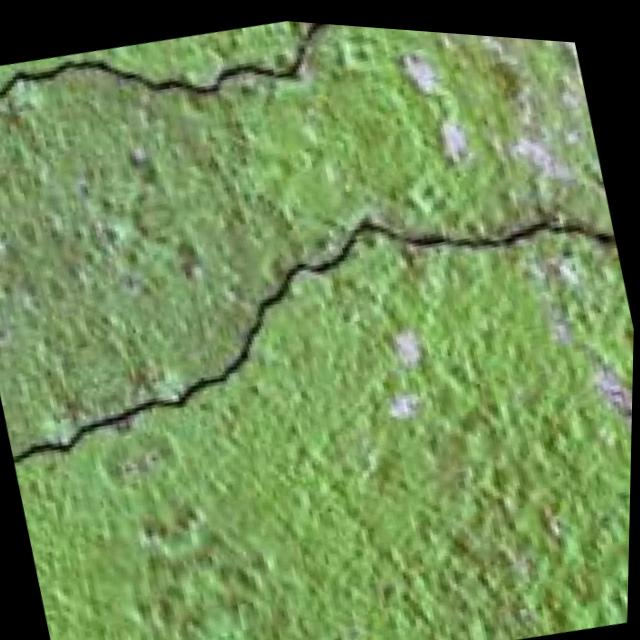Crack: (0, 137, 635, 536), (0, 0, 393, 183)
